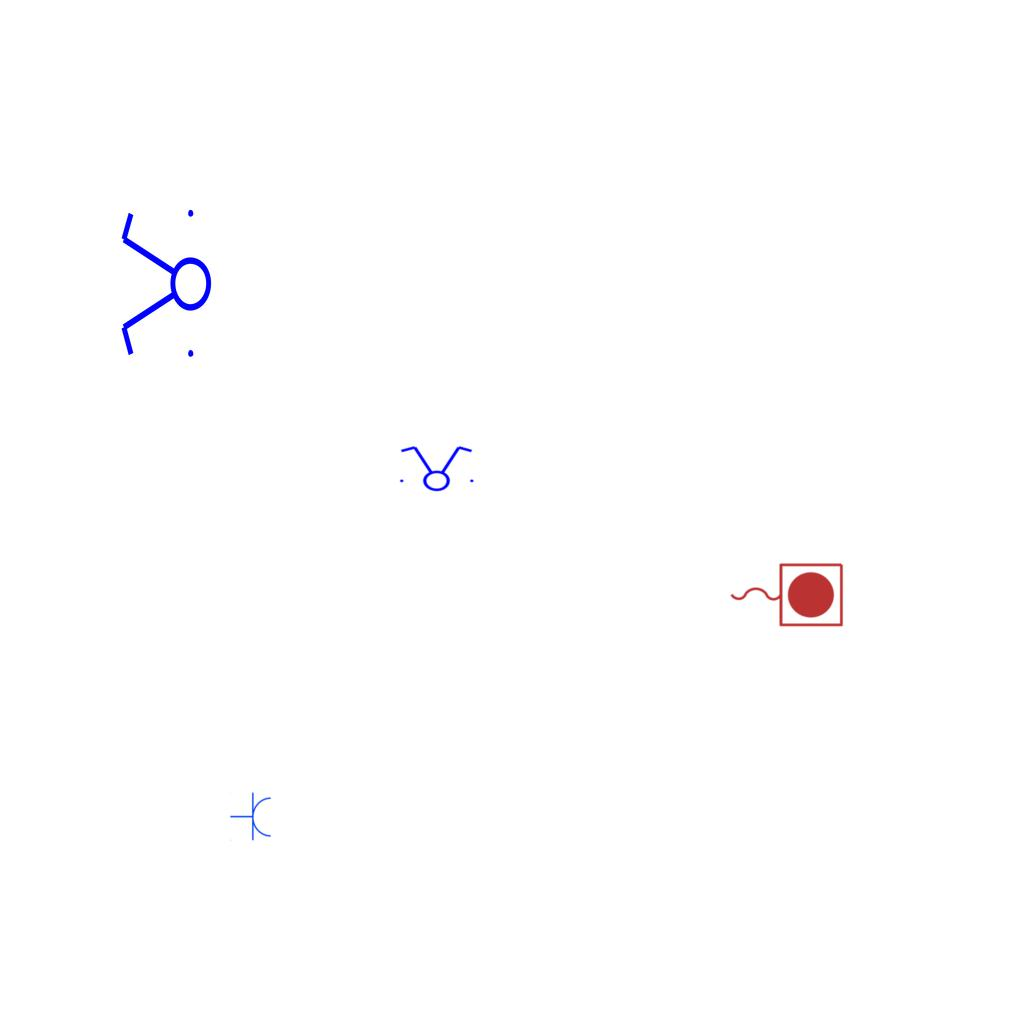Schukosteckdose_einfach: (230, 792, 273, 842)
Serienschalter: (117, 201, 213, 369), (394, 444, 478, 492)
Zugtaster: (725, 558, 847, 630)
